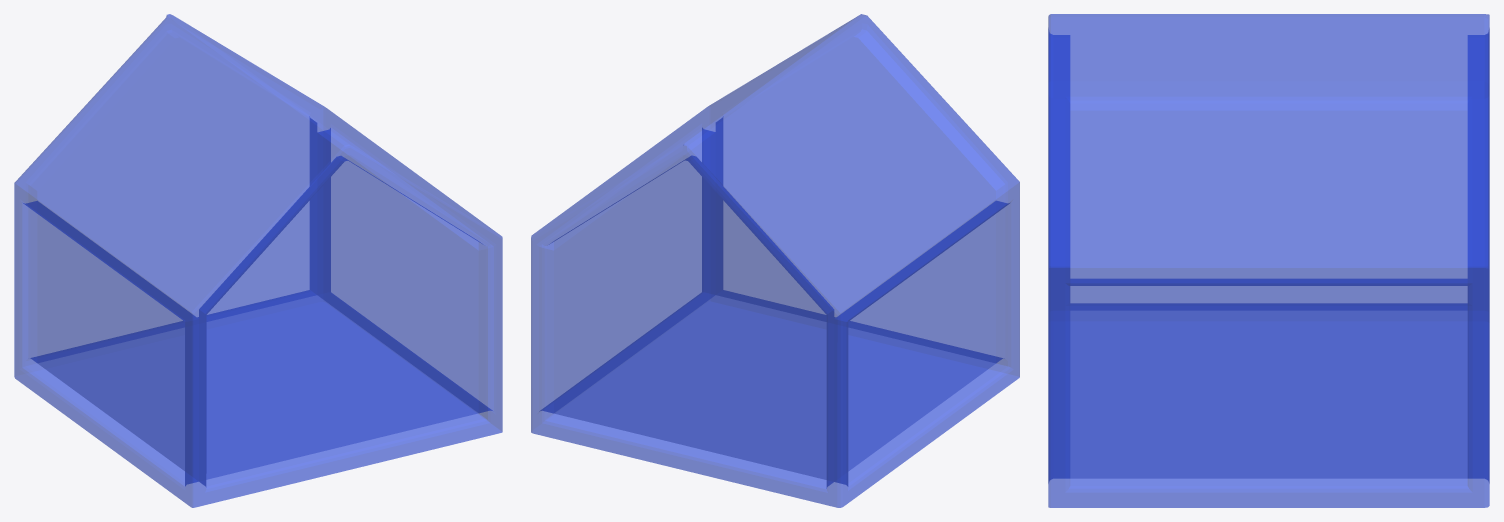
File: casita.glb
3 renders of one model, left to right at view 1: azimuth 30°, elevation 25°; view 2: azimuth 150°, elevation 25°; view 3: azimuth 270°, elevation 25°, orthographic. The views are drawn at different scales.
Visible parts, largest first — view 1: Plane; view 2: Plane; view 3: Plane.
Boxes of the visible parts, x1,y1,x2,y2 form: Plane: (14, 14, 502, 507); Plane: (531, 14, 1019, 507); Plane: (1048, 14, 1489, 507).
Size of the model in its own units: 2 by 2 by 2.
